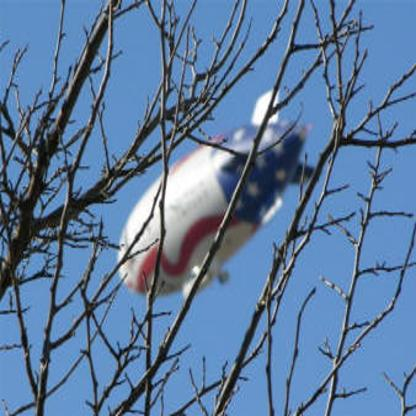Airship: (112, 87, 323, 303)
